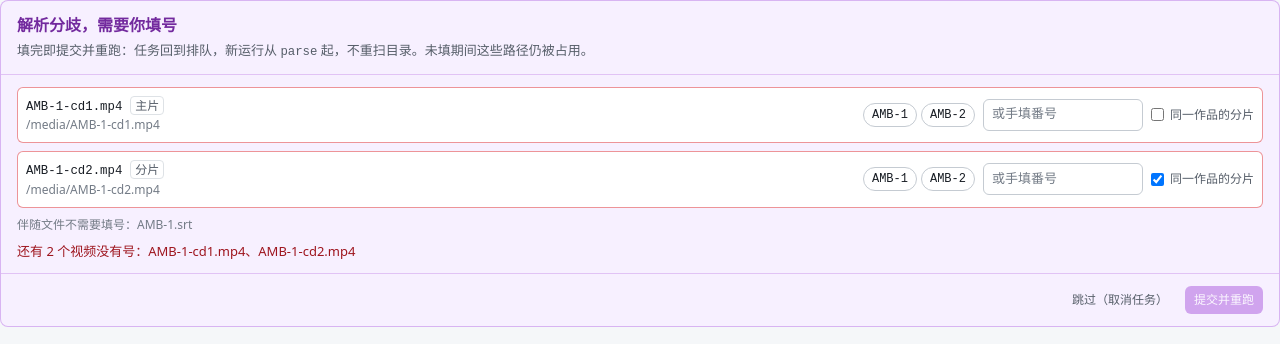
Test: NumberFillPanel › renders one number input per video, none per companion, and a chip fills the field
Expected: the number of fields with placeholder "或手填番号" is 2, [983, 99, 1143, 131]; [983, 163, 1143, 195]
Expected: the text "伴随文件不需要填号：AMB-1.srt" is shown, [17, 216, 192, 232]
Click the button "AMB-1" in the row of "/media/AMB-1-cd1.mp4": click(890, 115) [863, 103, 917, 127]
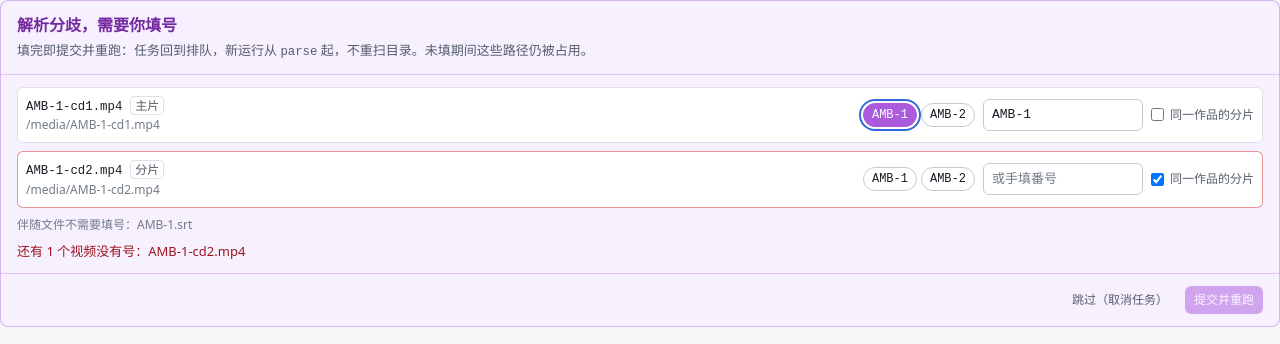
Expected: the field with placeholder "或手填番号" holds "AMB-1", [983, 99, 1143, 131]
